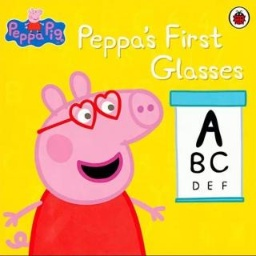Peppa: (3, 71, 168, 256)
